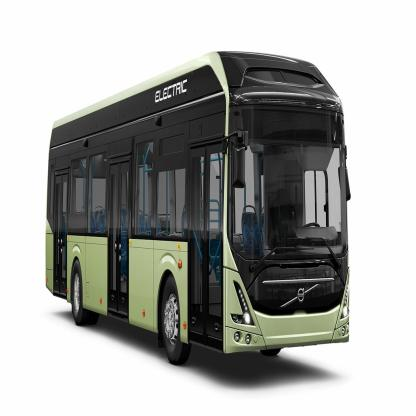Bus: (43, 51, 358, 370)
